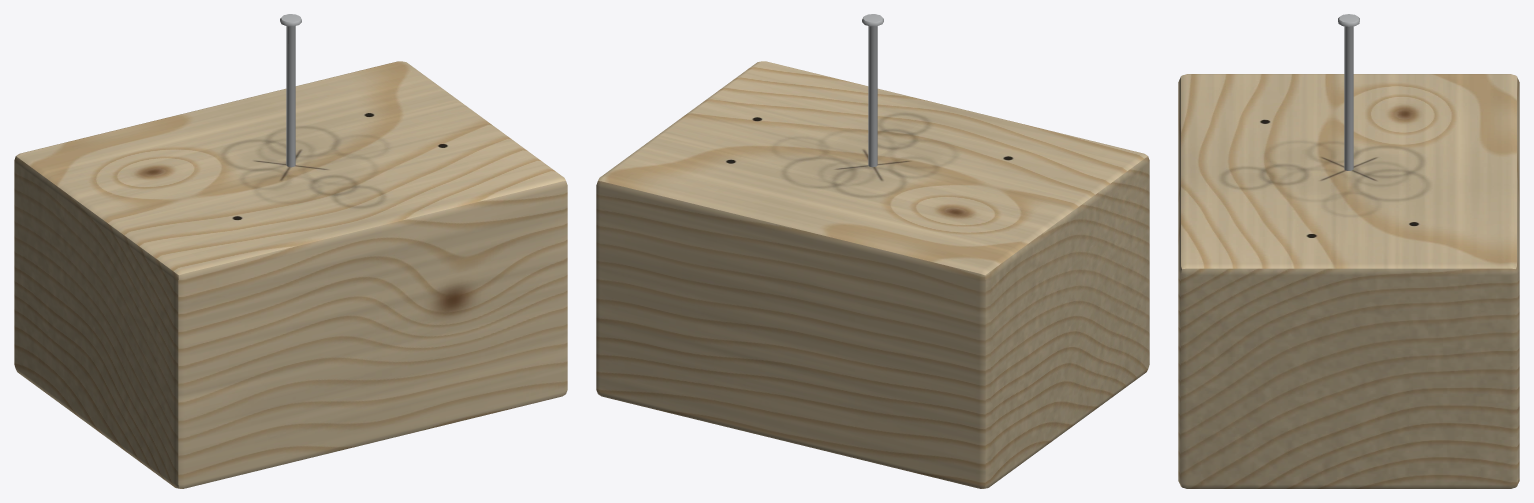
The model's file is woodblock.glb.
3 renders of one model, left to right at view 1: azimuth 30°, elevation 25°; view 2: azimuth 150°, elevation 25°; view 3: azimuth 270°, elevation 25°, orthographic. The views are drawn at different scales.
Visible parts, largest first — view 1: woodblock_mesh, nail_mesh; view 2: woodblock_mesh, nail_mesh; view 3: woodblock_mesh, nail_mesh.
Part boxes in pixels (bbox=[...]): woodblock_mesh: bbox=[14, 61, 567, 488]; nail_mesh: bbox=[280, 14, 301, 167]; woodblock_mesh: bbox=[596, 61, 1149, 488]; nail_mesh: bbox=[862, 14, 883, 167]; woodblock_mesh: bbox=[1178, 74, 1519, 488]; nail_mesh: bbox=[1338, 14, 1359, 170].
Size of the model in its own units: 0.15 by 0.1338 by 0.11.
2 materials, 1 textured.
